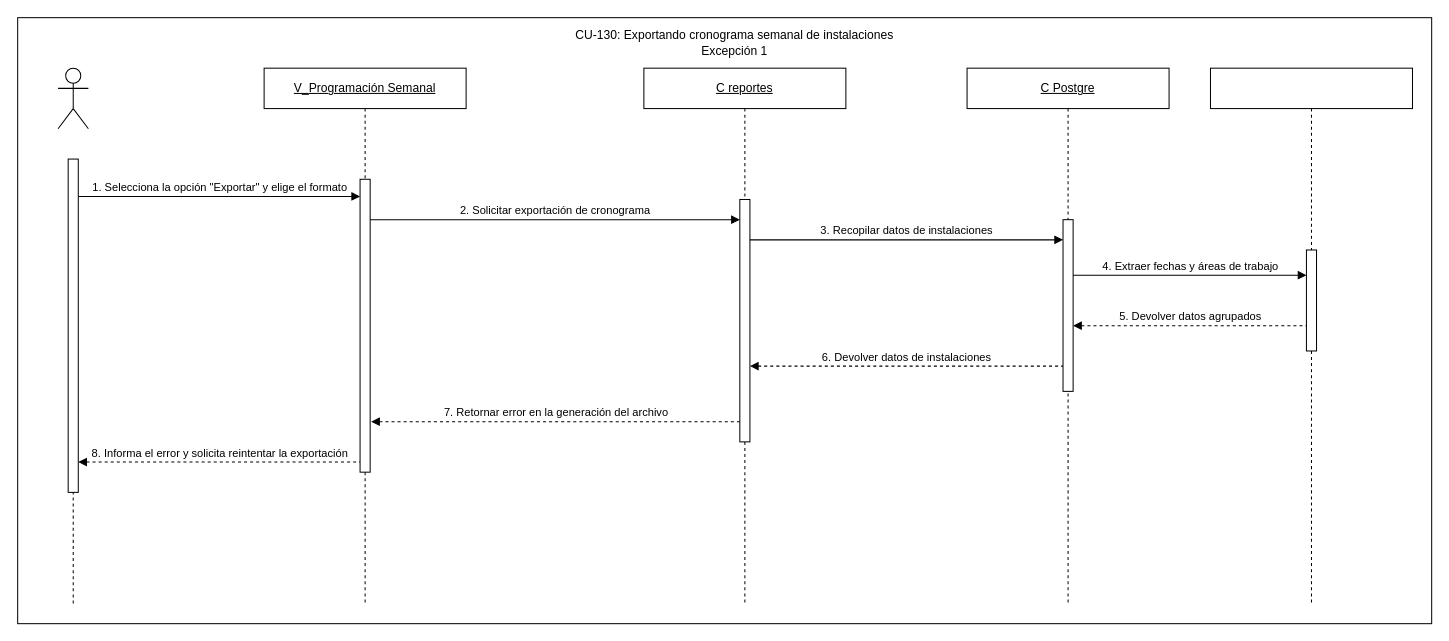
The diagram is 1449 pixels wide and 641 high, and some of its shapes have lost their labels. The box of each missing label's shape, as (x1, y1, x2, y2) in pixels:
JOP: (57, 67, 88, 129)
Orden Trabajo: (1209, 67, 1412, 603)
